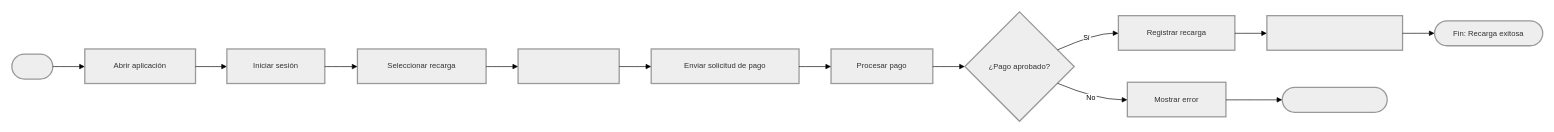
Some shapes in this 1554 by 132 pixel diagram are drawn without their labels. Each missing label, with the centre of its shape:
"Fin: Recarga fallida" goes at (1334,99).
"Ingresar valor" goes at (568,66).
"Inicio" goes at (32,66).
"Mostrar confirmación" goes at (1334,33).
